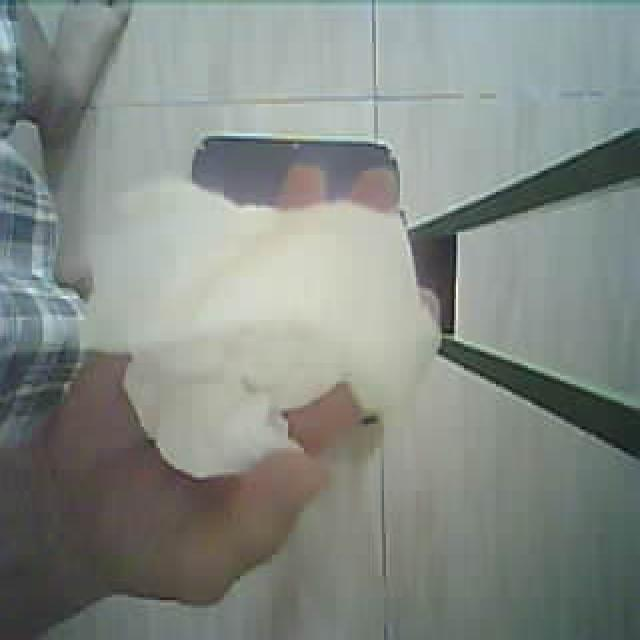Paper: (92, 188, 444, 445)
